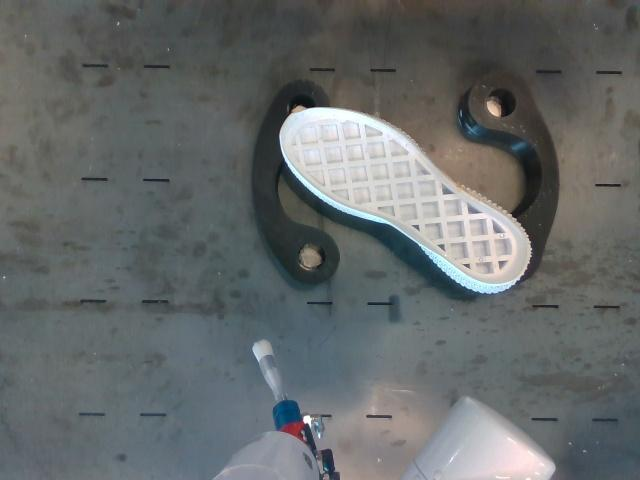shoes: (281, 109, 530, 284)
